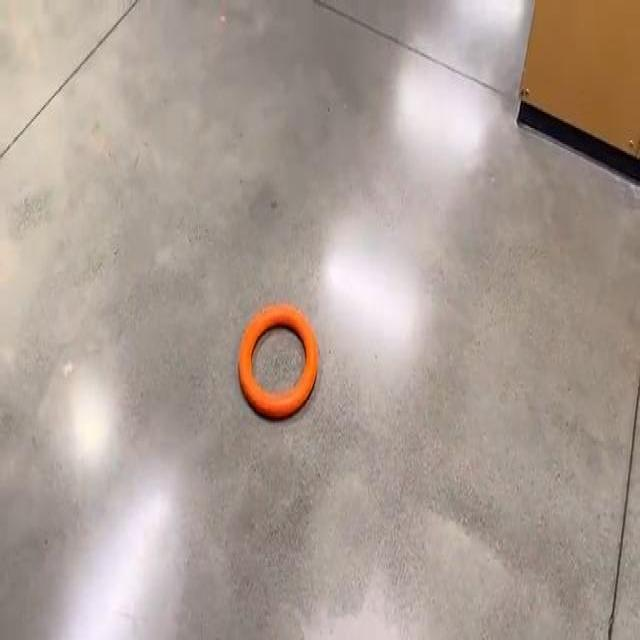note: (239, 304, 318, 416)
